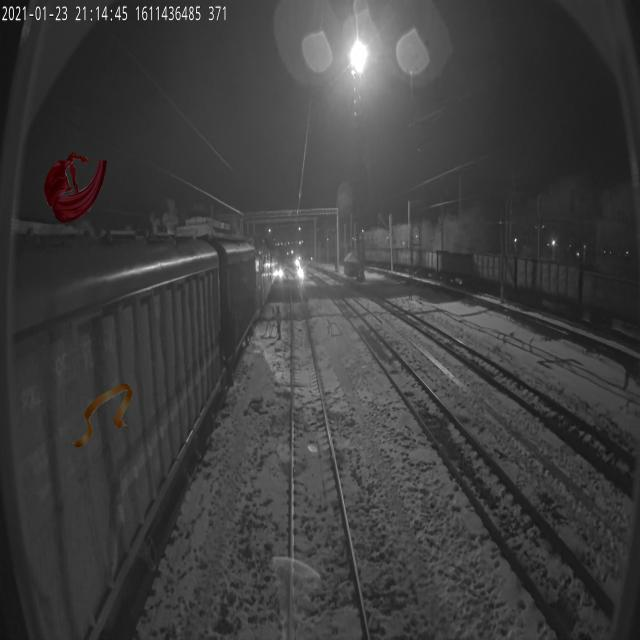floating object: (44, 159, 107, 223), (73, 383, 134, 448)
